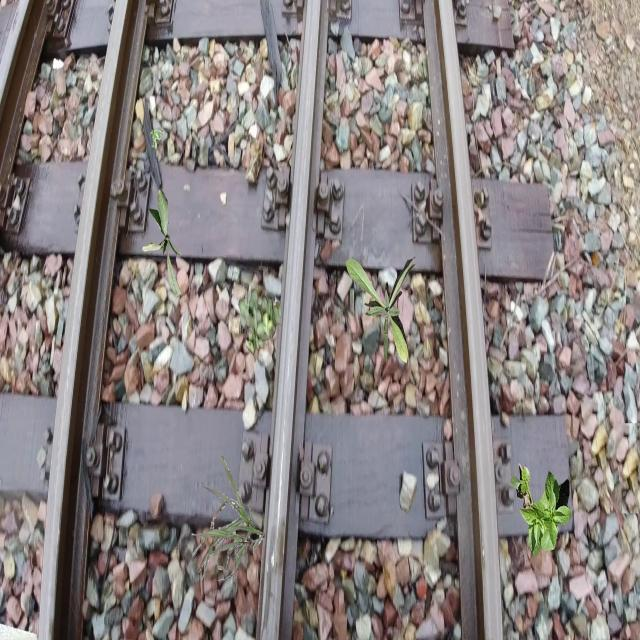Plant: (192, 456, 265, 580), (346, 257, 418, 365), (510, 463, 558, 558), (142, 188, 182, 298), (530, 471, 572, 551), (238, 289, 282, 356), (150, 129, 164, 150)
